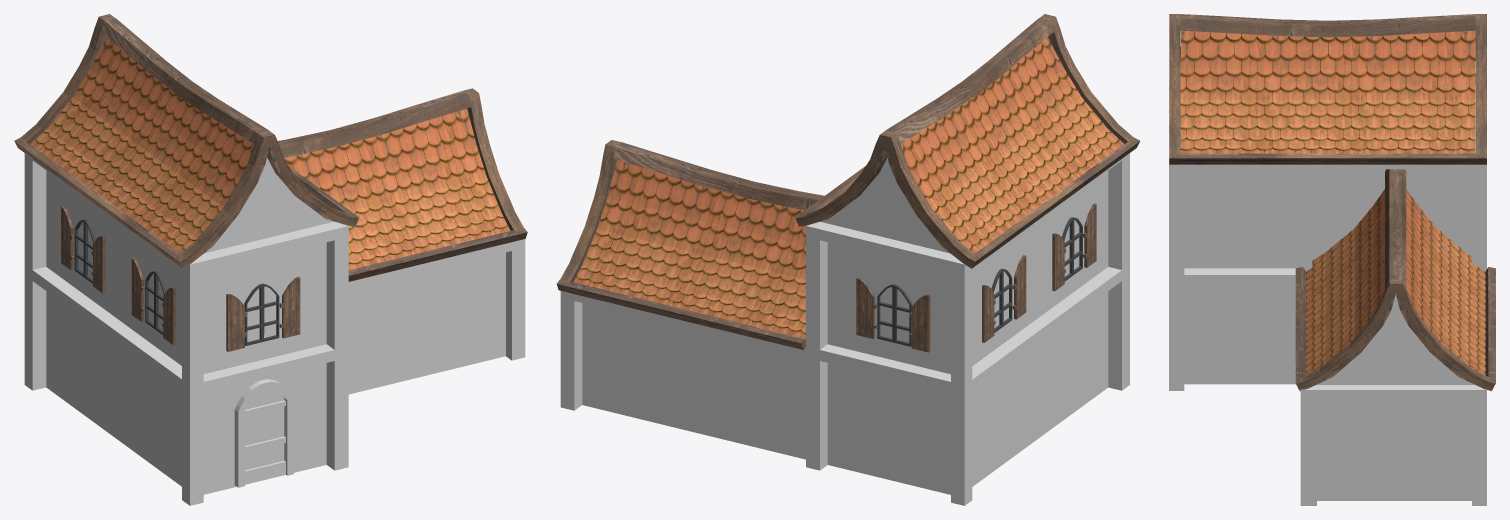
The picture shows the model from 3 angles, left to right: view 1: azimuth 30°, elevation 25°; view 2: azimuth 150°, elevation 25°; view 3: azimuth 270°, elevation 25°; orthographic projection. The views are drawn at different scales.
Visible parts, largest first — view 1: Roof_LOD0, Walls_LOD0, Woods_LOD0, Pencere_LOD0, Door_LOD0; view 2: Roof_LOD0, Walls_LOD0, Woods_LOD0, Pencere_LOD0; view 3: Roof_LOD0, Walls_LOD0, Woods_LOD0.
Part boxes in pixels (x1,y1,x2,y2): Roof_LOD0: [14, 14, 527, 281]; Walls_LOD0: [46, 157, 505, 494]; Woods_LOD0: [24, 153, 525, 505]; Pencere_LOD0: [61, 205, 300, 351]; Door_LOD0: [234, 379, 293, 487]; Roof_LOD0: [556, 14, 1139, 349]; Walls_LOD0: [582, 157, 1108, 494]; Woods_LOD0: [560, 153, 1129, 505]; Pencere_LOD0: [856, 203, 1096, 352]; Roof_LOD0: [1169, 14, 1495, 391]; Walls_LOD0: [1184, 169, 1474, 500]; Woods_LOD0: [1169, 84, 1486, 505].
Size of what is drawn, in the model's own units: 791 by 639 by 561.
9 materials, 3 textured.
